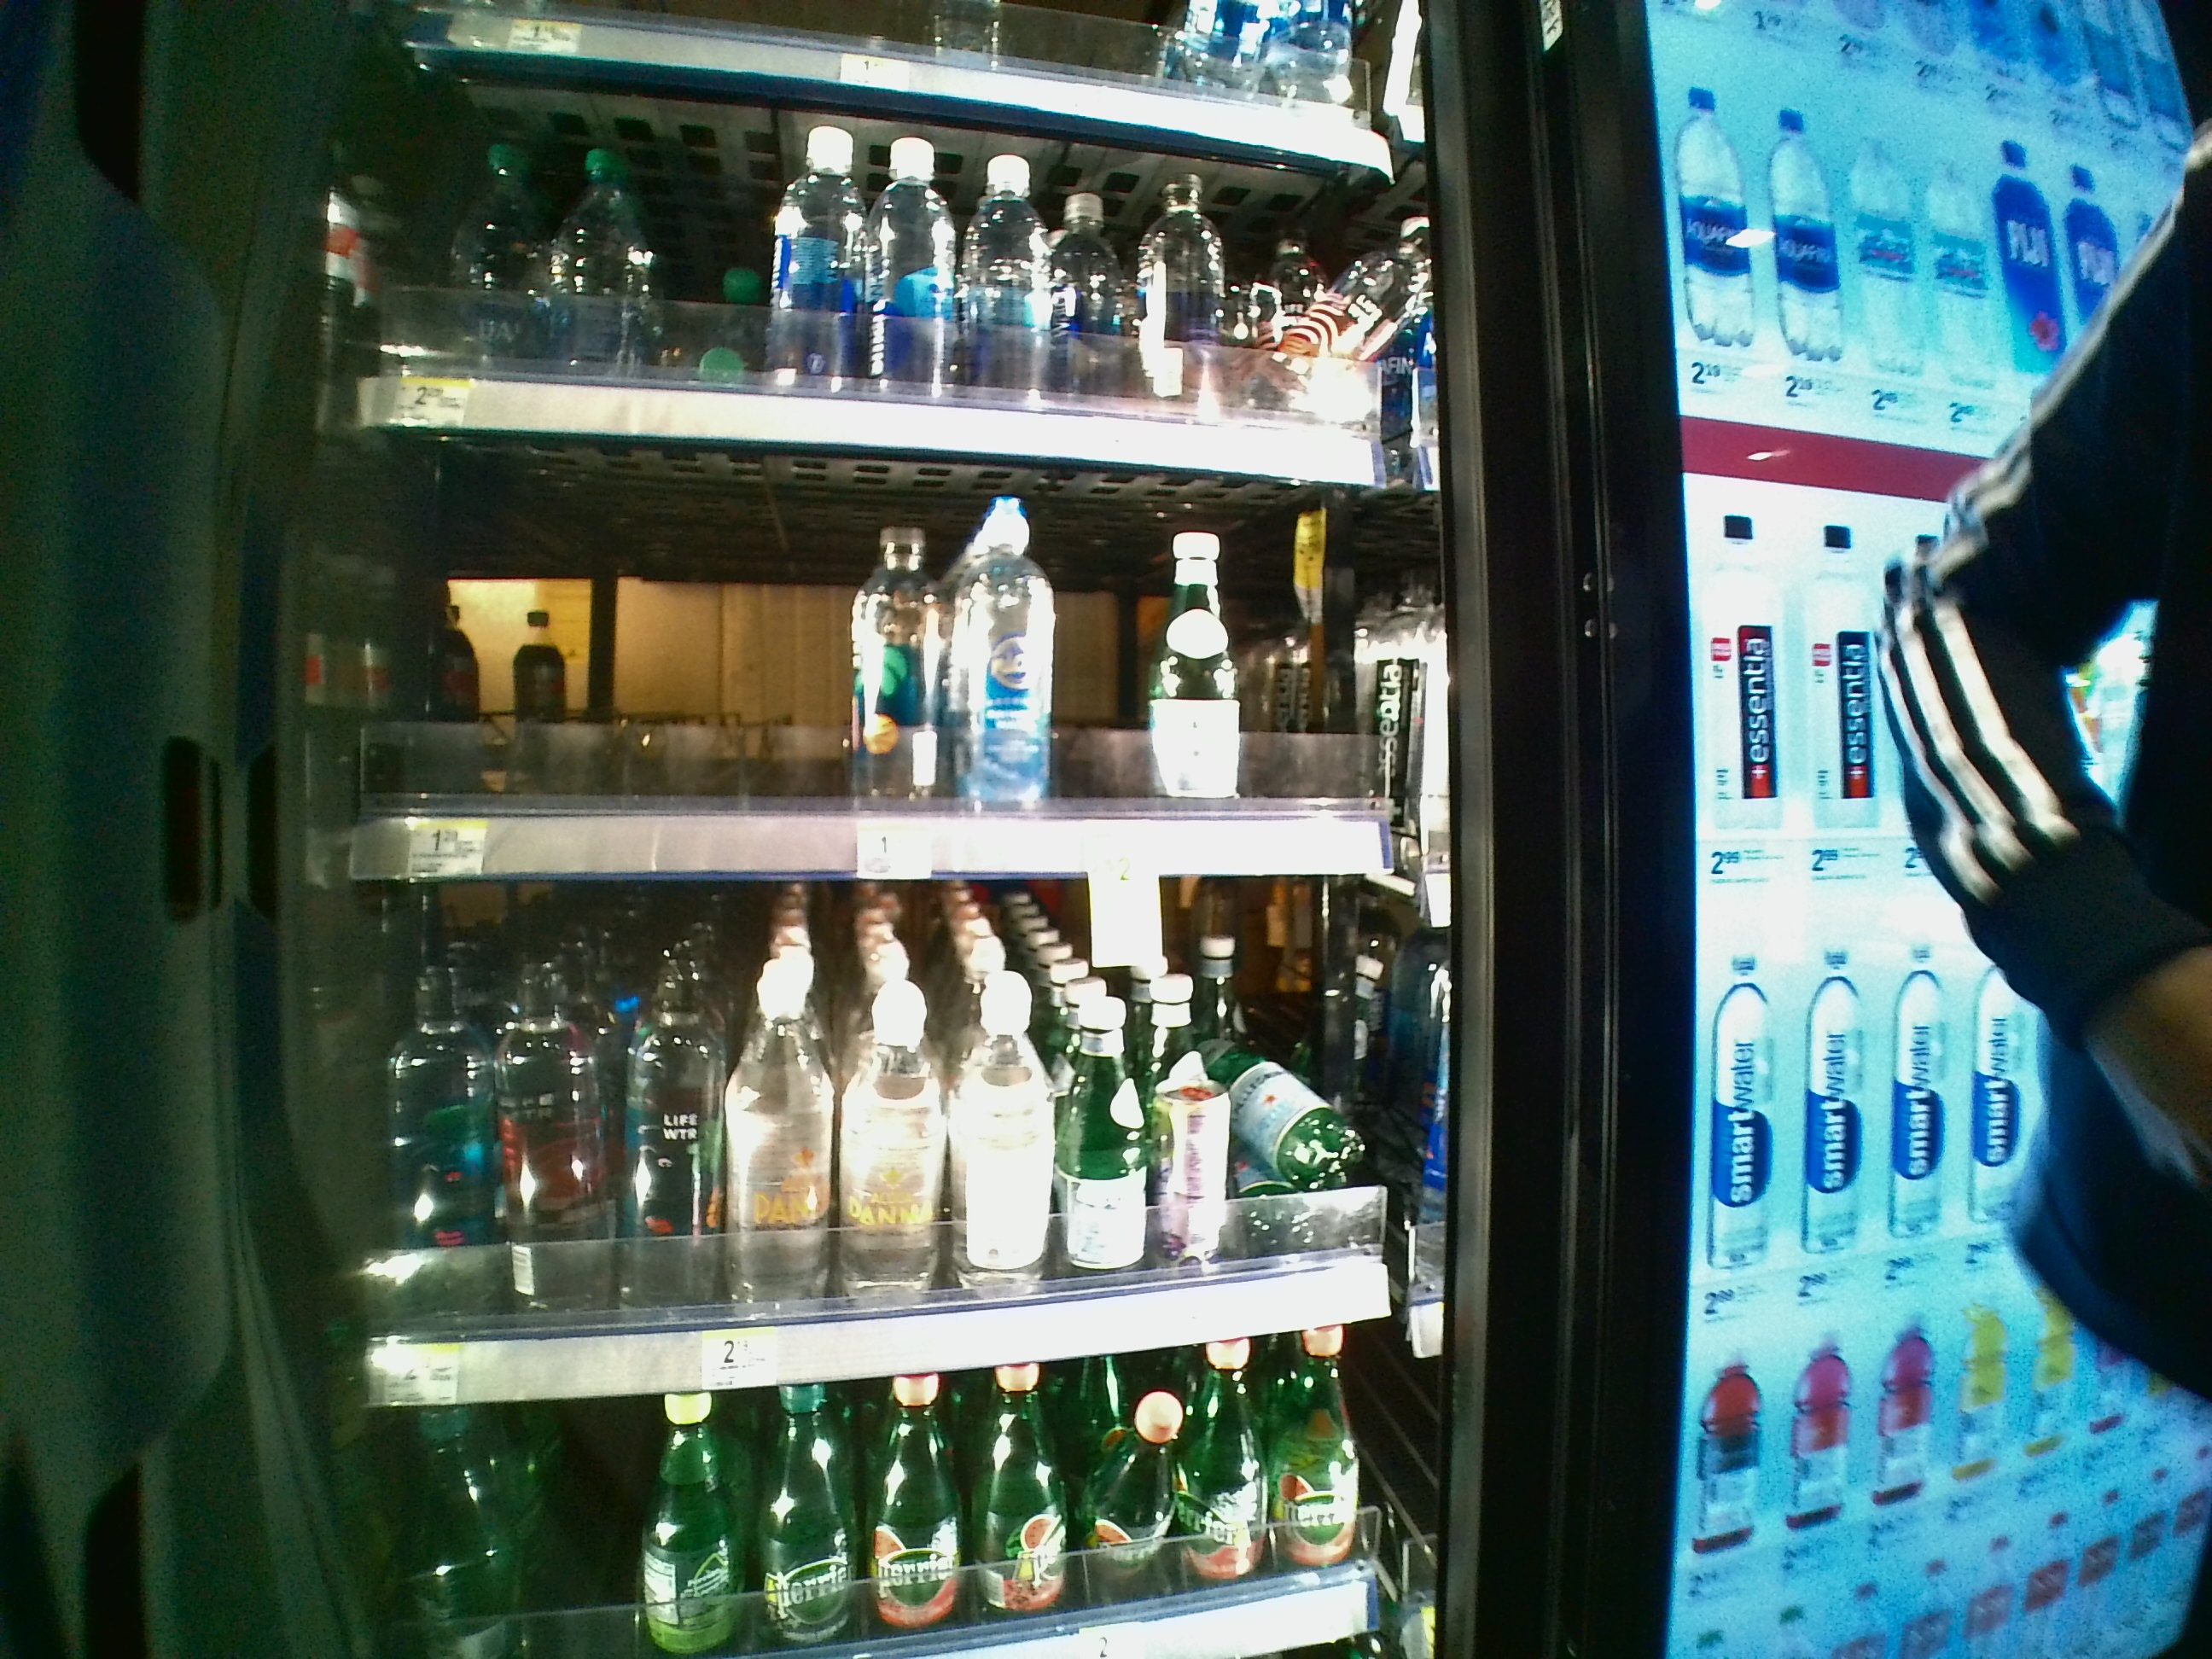Shelf: (324, 887, 1470, 1417), (320, 425, 1444, 887)
